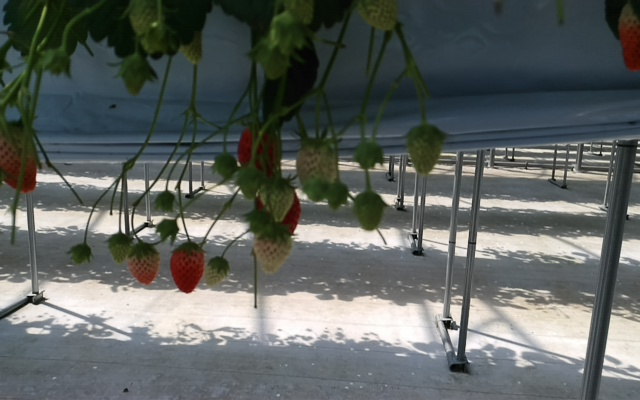GreenStrawberry: (292, 137, 339, 203), (120, 1, 174, 55), (252, 223, 295, 278), (257, 31, 301, 81), (402, 125, 444, 175), (116, 54, 155, 97), (261, 176, 295, 223), (128, 241, 160, 285), (354, 192, 384, 231), (206, 257, 231, 291), (107, 232, 130, 263)
MatureStrawberry: (236, 123, 285, 184), (253, 180, 302, 239), (1, 125, 41, 194), (168, 241, 206, 296), (619, 1, 640, 77)
